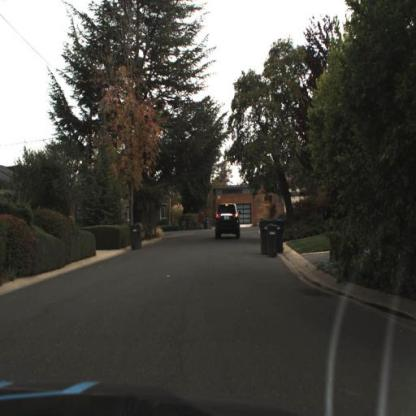car: (207, 179, 247, 251)
